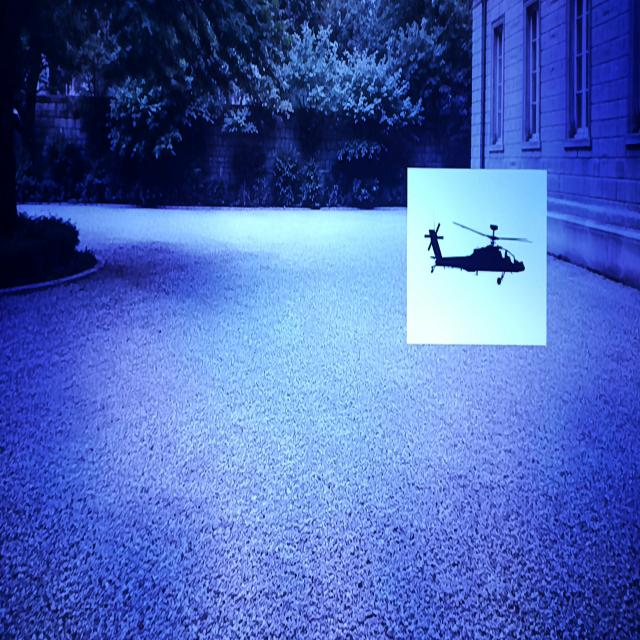Apache friendly: (425, 223, 530, 285)
